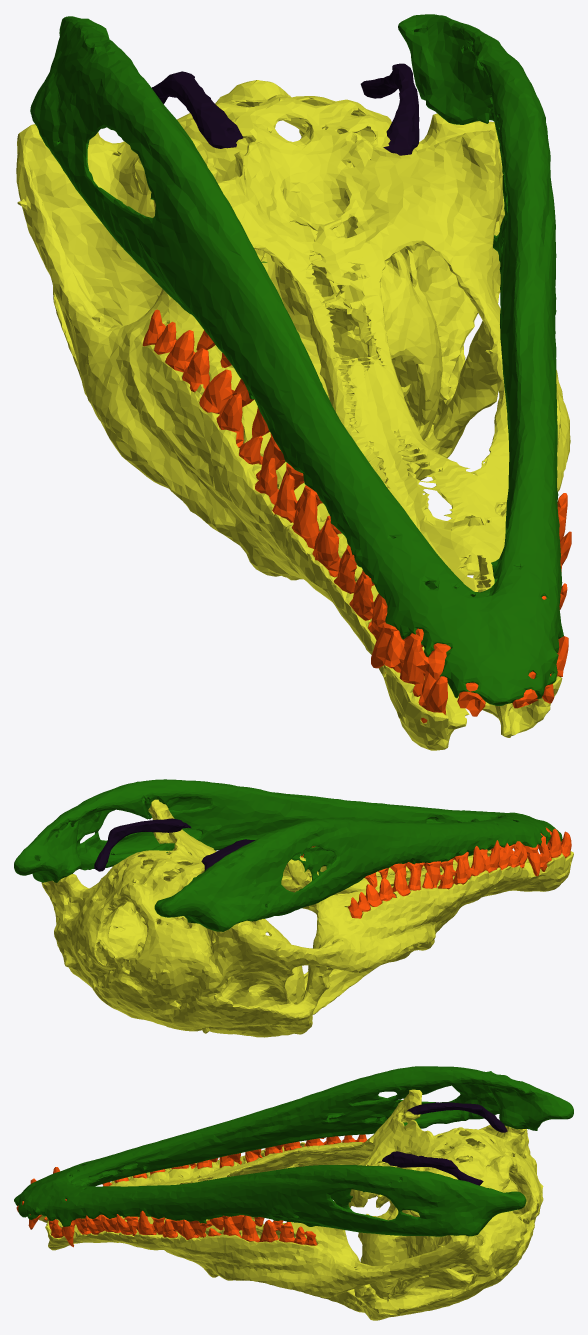
File: skull2.glb
The picture shows the model from 3 angles, top to bottom: view 1: azimuth 30°, elevation 25°; view 2: azimuth 150°, elevation 25°; view 3: azimuth 270°, elevation 25°; orthographic projection. The views are drawn at different scales.
Parts seen in each view (by area): view 1: Shape_IndexedFaceSet.002, Shape_IndexedFaceSet.001, Shape_IndexedFaceSet.003, Shape_IndexedFaceSet; view 2: Shape_IndexedFaceSet.002, Shape_IndexedFaceSet.001, Shape_IndexedFaceSet.003, Shape_IndexedFaceSet; view 3: Shape_IndexedFaceSet.001, Shape_IndexedFaceSet.002, Shape_IndexedFaceSet.003, Shape_IndexedFaceSet.
Boxes of the visible parts, x1,y1,x2,y2 form: Shape_IndexedFaceSet.002: [16, 80, 570, 750]; Shape_IndexedFaceSet.001: [30, 14, 563, 705]; Shape_IndexedFaceSet.003: [142, 309, 571, 723]; Shape_IndexedFaceSet: [152, 63, 419, 155]; Shape_IndexedFaceSet.002: [41, 799, 573, 1037]; Shape_IndexedFaceSet.001: [14, 779, 562, 931]; Shape_IndexedFaceSet.003: [301, 827, 571, 918]; Shape_IndexedFaceSet: [94, 818, 255, 871]; Shape_IndexedFaceSet.001: [14, 1066, 573, 1236]; Shape_IndexedFaceSet.002: [38, 1089, 543, 1320]; Shape_IndexedFaceSet.003: [16, 1134, 366, 1247]; Shape_IndexedFaceSet: [382, 1102, 507, 1185].
Size of the model in its own units: 0.0257 by 0.0201 by 0.0488.
